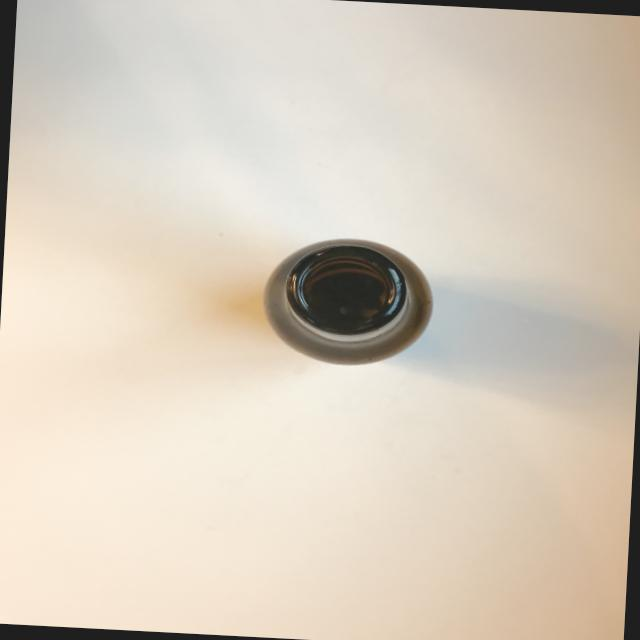Glass: (230, 218, 466, 384)
